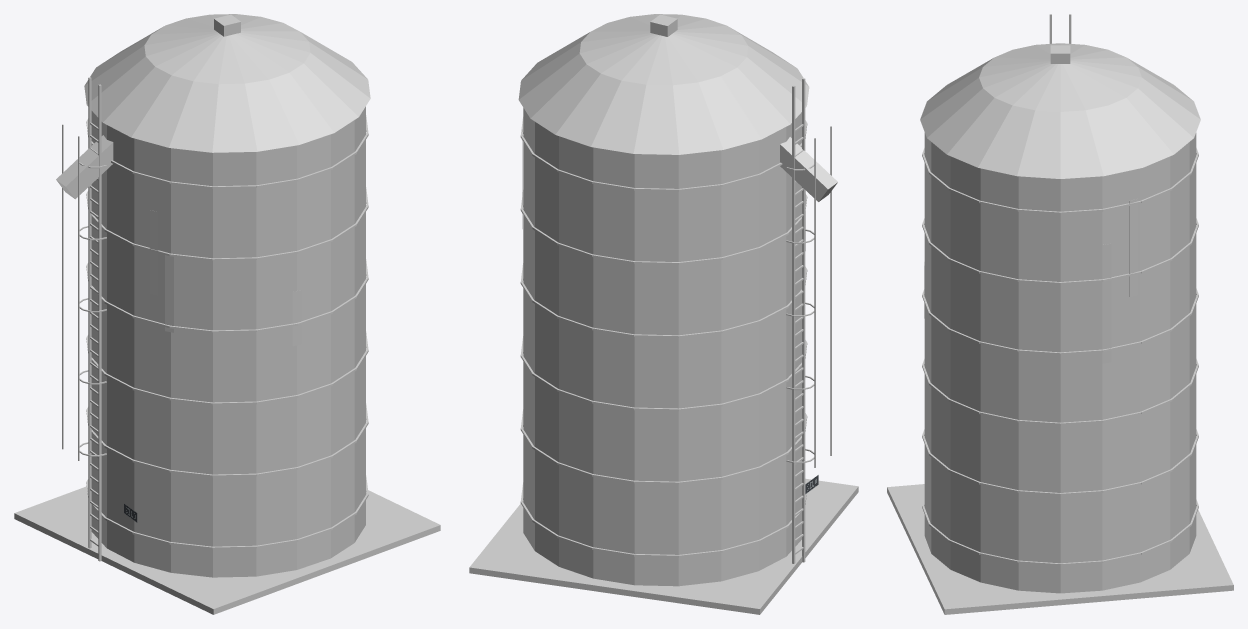
Rendered from silo.glb.
3 views of the same model, side by side, from view 1: azimuth 30°, elevation 25°; view 2: azimuth 150°, elevation 25°; view 3: azimuth 270°, elevation 25° (orthographic). The views are drawn at different scales.
Visible parts, largest first — view 1: silo; view 2: silo; view 3: silo.
Part boxes in pixels (x1,y1,x2,y2): silo: [14, 14, 440, 614]; silo: [469, 14, 858, 614]; silo: [887, 14, 1233, 614].
Size of the model in its own units: 9.31 by 14 by 8.94.
2 materials, 1 textured.
